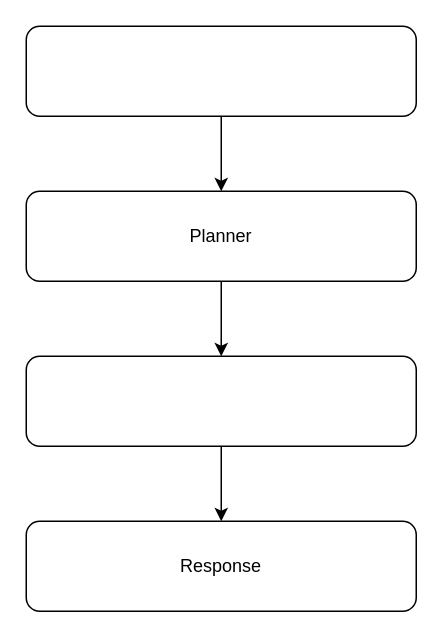
The diagram is 443 pixels wide and 638 high, and some of its shapes have lost their labels. The shapes that lost their labels are listed below. From the top down, each one's centre as x and y in pixels, then its label:
At point (220, 70): "User".
At point (220, 400): "Capability".
